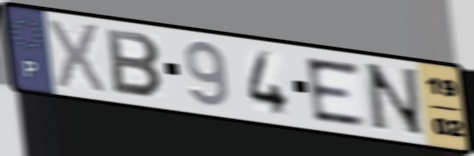4: (246, 49, 292, 118)
9: (182, 39, 233, 111)
B: (104, 26, 166, 101)
E: (301, 55, 369, 128)
N: (362, 61, 429, 139)
X: (46, 16, 108, 97)
